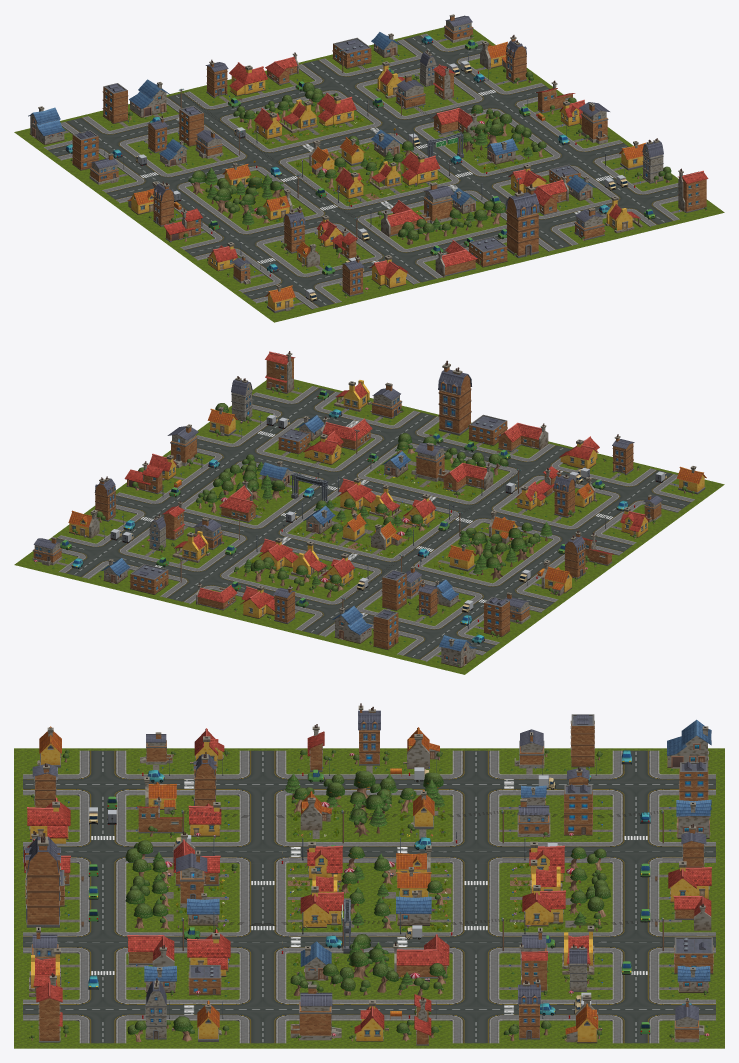
Rendered from maplewood-town.glb.
3 views of the same model, one above another, from view 1: azimuth 30°, elevation 25°; view 2: azimuth 150°, elevation 25°; view 3: azimuth 270°, elevation 25° (orthographic). The views are drawn at different scales.
Visible parts, largest first — view 1: Maplewood_StaticTown; view 2: Maplewood_StaticTown; view 3: Maplewood_StaticTown.
Boxes of the visible parts, bbox=[...] form: Maplewood_StaticTown: bbox=[14, 14, 724, 322]; Maplewood_StaticTown: bbox=[14, 351, 724, 674]; Maplewood_StaticTown: bbox=[14, 703, 724, 1048].
Size of the model in its own units: 160 by 22.76 by 160.
Materials: 69 (62 with a texture image).
